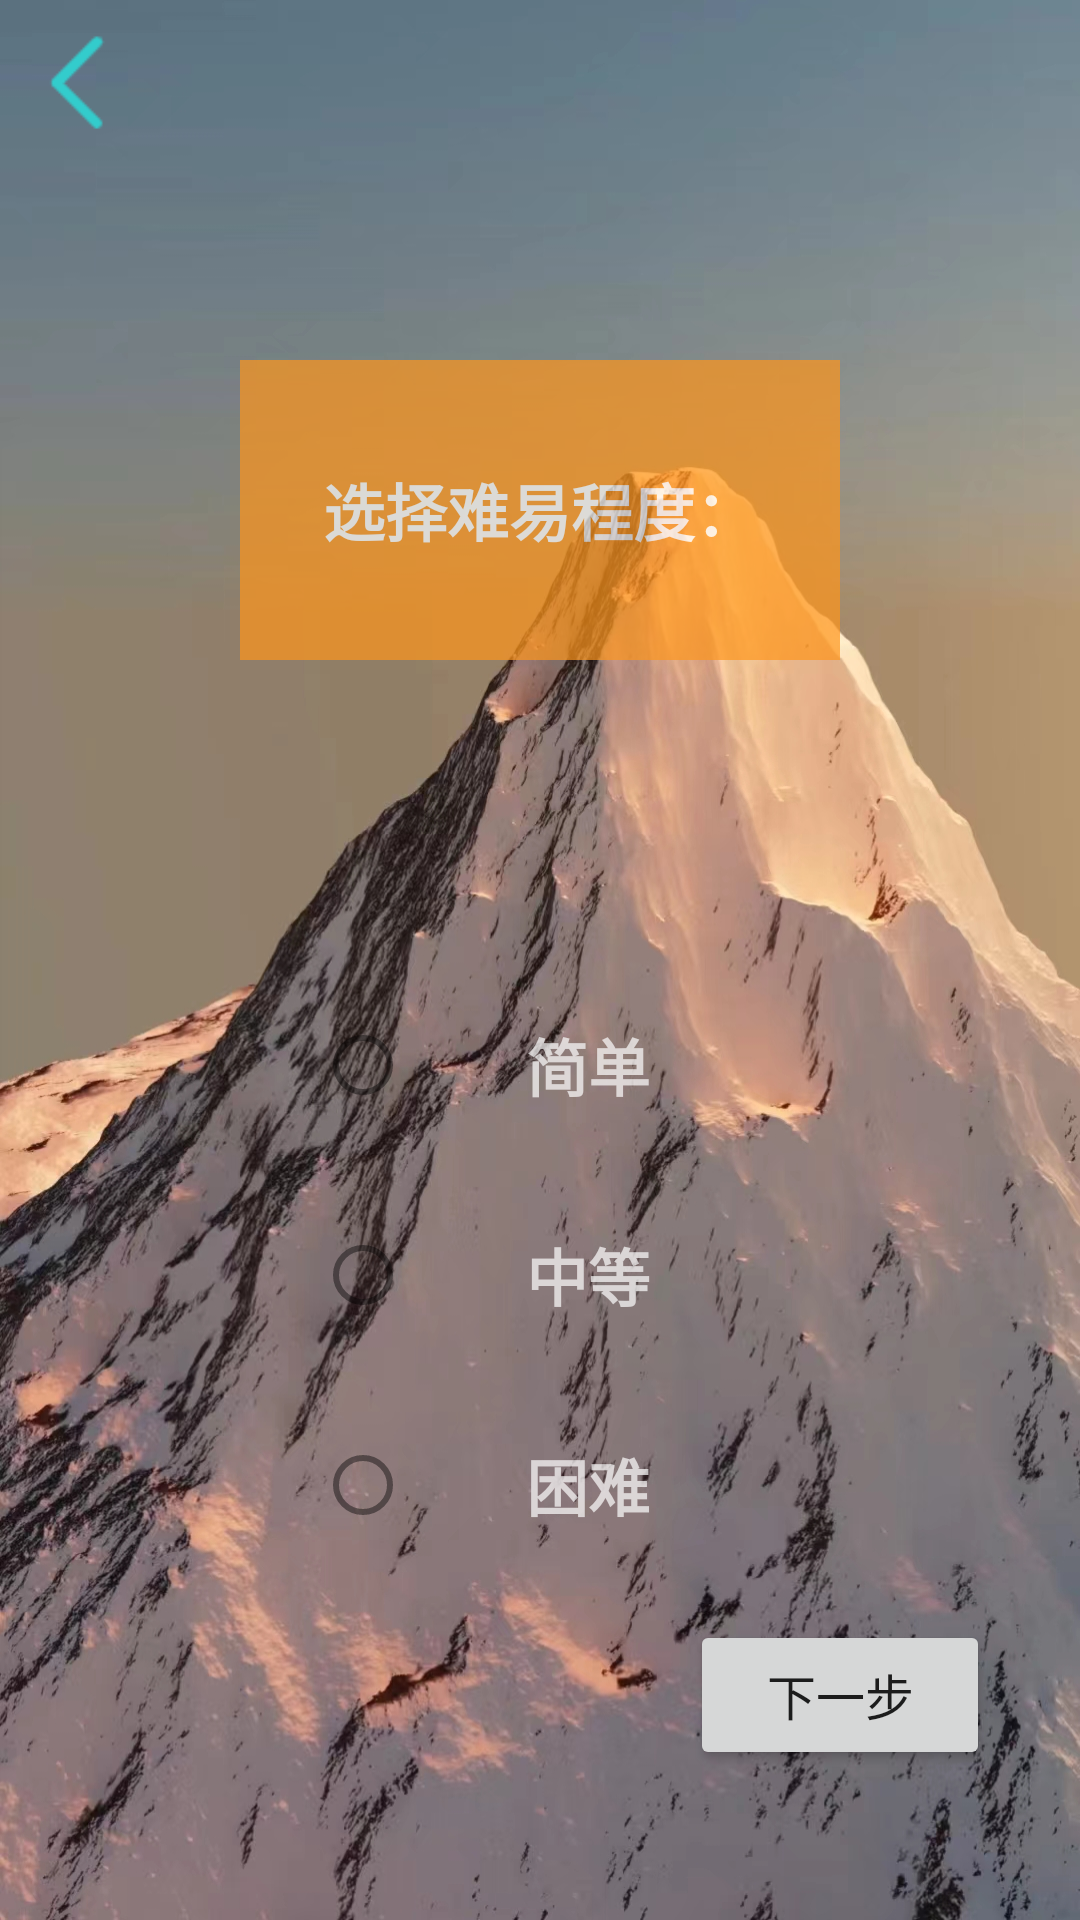

Where to tap for icons on this 1080w x 1920h app screen, as (x,y):
back: (77,82)
